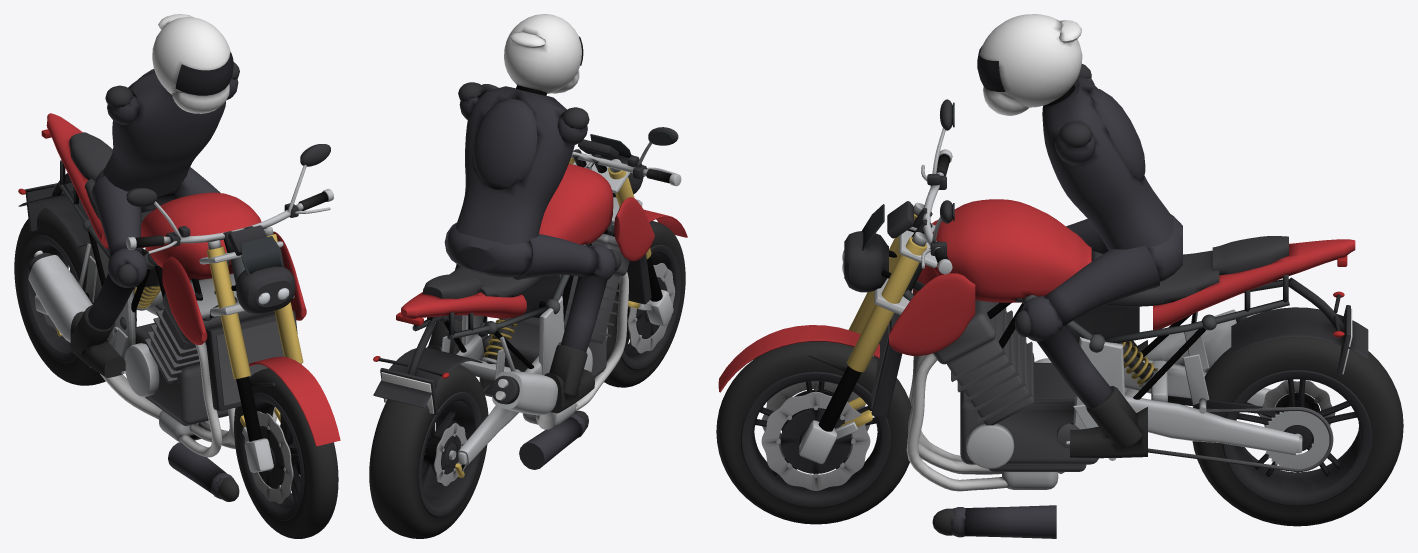
The model's file is moto.raw.glb.
3 renders of one model, left to right at view 1: azimuth 30°, elevation 25°; view 2: azimuth 150°, elevation 25°; view 3: azimuth 270°, elevation 25°, orthographic. The views are drawn at different scales.
Visible parts, largest first — view 1: Body, Steer, RiderTorso, Wheel_F, RiderLegs, Wheel_R, ArmU_L, ArmF_L; view 2: Body, RiderTorso, Wheel_R, RiderLegs, Wheel_F, Steer, ArmU_L; view 3: Body, Wheel_R, Wheel_F, RiderTorso, Steer, RiderLegs, ArmU_L.
Boxes of the visible parts, x1,y1,x2,y2 form: Body: (18, 113, 306, 457); Steer: (126, 144, 340, 472); RiderTorso: (103, 14, 239, 197); Wheel_F: (234, 368, 338, 538); RiderLegs: (70, 167, 220, 377); Wheel_R: (14, 207, 136, 385); ArmU_L: (168, 442, 234, 499); ArmF_L: (218, 477, 239, 501); Body: (373, 164, 654, 477); RiderTorso: (456, 14, 589, 244); Wheel_R: (369, 364, 488, 538); RiderLegs: (427, 222, 621, 413); Wheel_F: (604, 221, 685, 387); Steer: (482, 84, 687, 325); ArmU_L: (519, 413, 585, 469); Body: (871, 199, 1368, 491); Wheel_R: (1192, 337, 1403, 526); Wheel_F: (716, 341, 911, 524); RiderTorso: (977, 14, 1173, 250); Steer: (718, 99, 954, 464); RiderLegs: (1014, 214, 1182, 458); ArmU_L: (950, 505, 1056, 538).
Bounding box in the file's own units: 0.8106 × 1.73 × 2.07.
